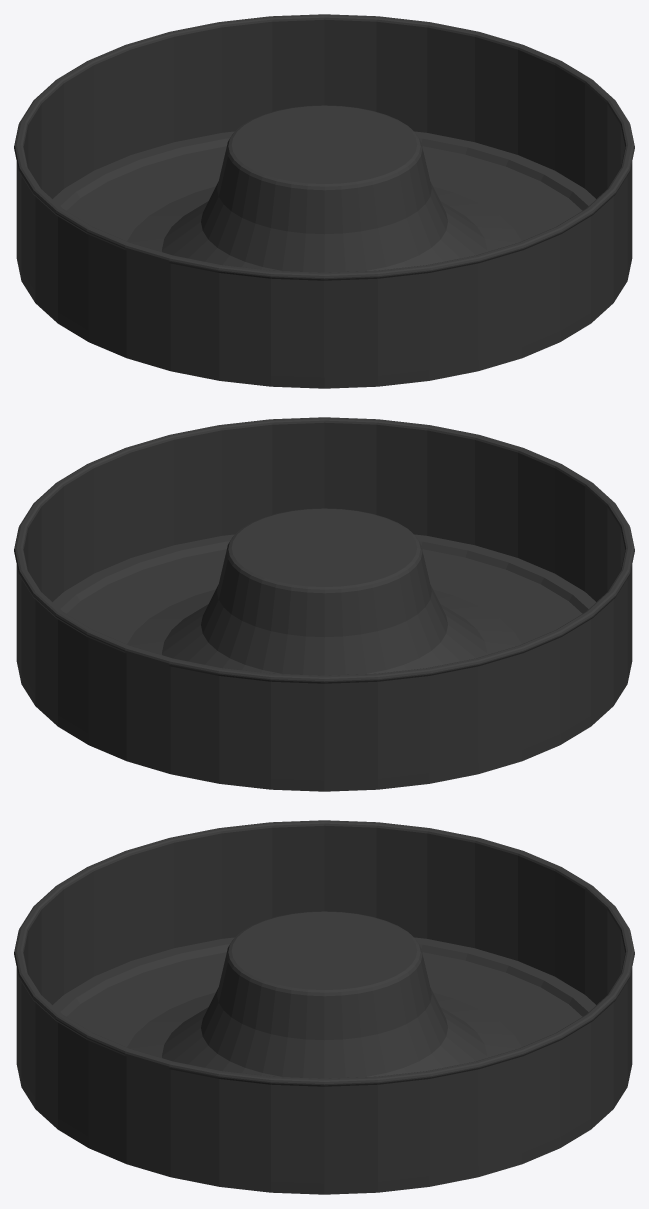
File: ffbac276-1635-449d-9207-0ce5f28b6065.glb
The picture shows the model from 3 angles, top to bottom: view 1: azimuth 30°, elevation 25°; view 2: azimuth 150°, elevation 25°; view 3: azimuth 270°, elevation 25°; orthographic projection.
Visible parts, largest first — view 1: Cake_Tin; view 2: Cake_Tin; view 3: Cake_Tin.
Part boxes in pixels (left/top/right/bottom): Cake_Tin: left=14, top=14, right=634, bottom=388; Cake_Tin: left=14, top=417, right=634, bottom=791; Cake_Tin: left=14, top=820, right=634, bottom=1194.
Bounding box in the file's own units: 102 × 21.79 × 102.
1 material, 1 textured.
